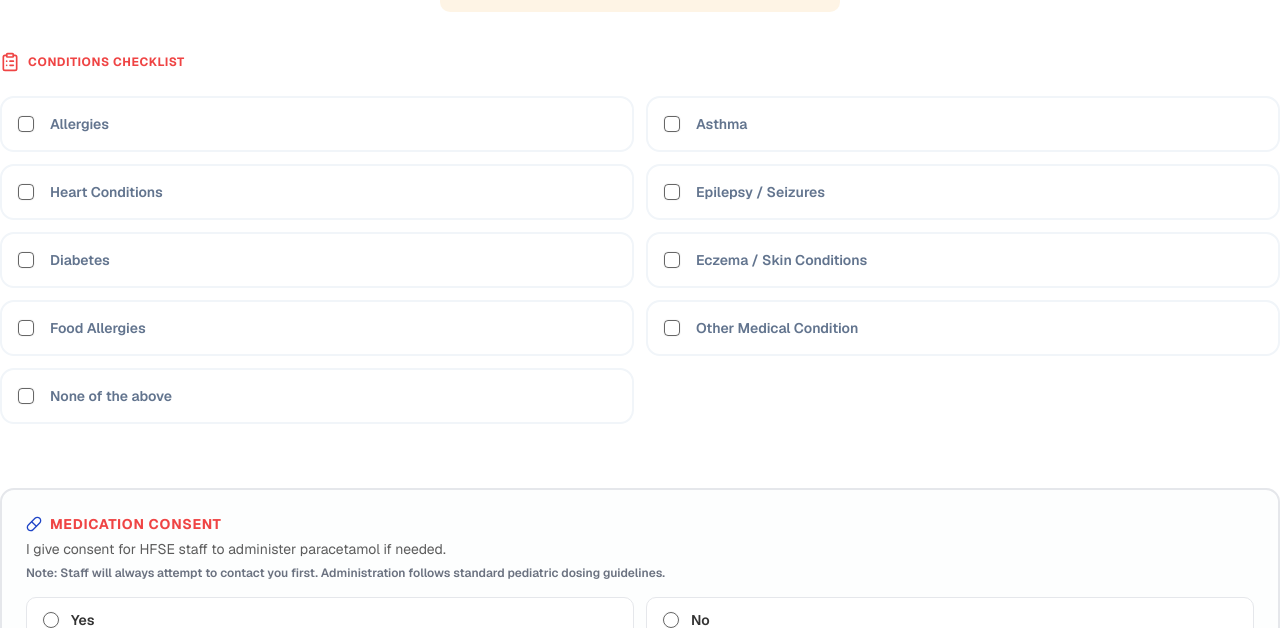
medical-information.tsx › requires detail text when 'Other Medical Condition' is checked
Step 1. Click the checkbox named "other medical condition" next to "Other Medical Condition" → (672, 328), box [664, 320, 680, 336]
(page scrolled)
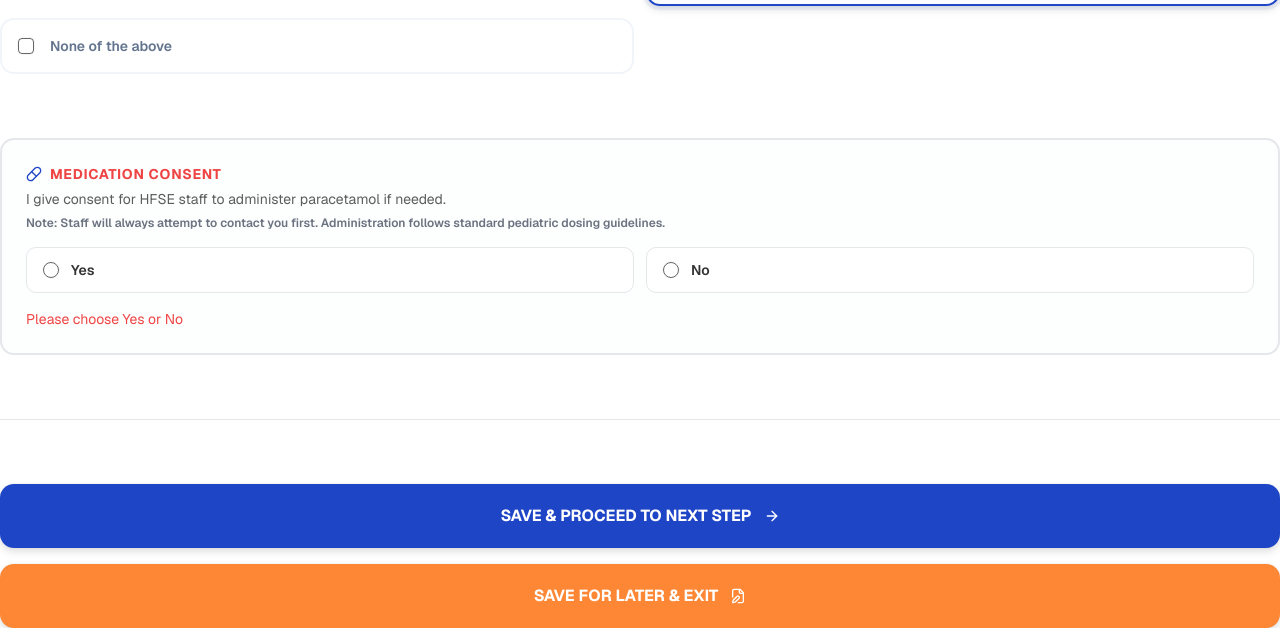
Step 2. Click the radio button named "yes" → (51, 270), box [43, 262, 59, 278]
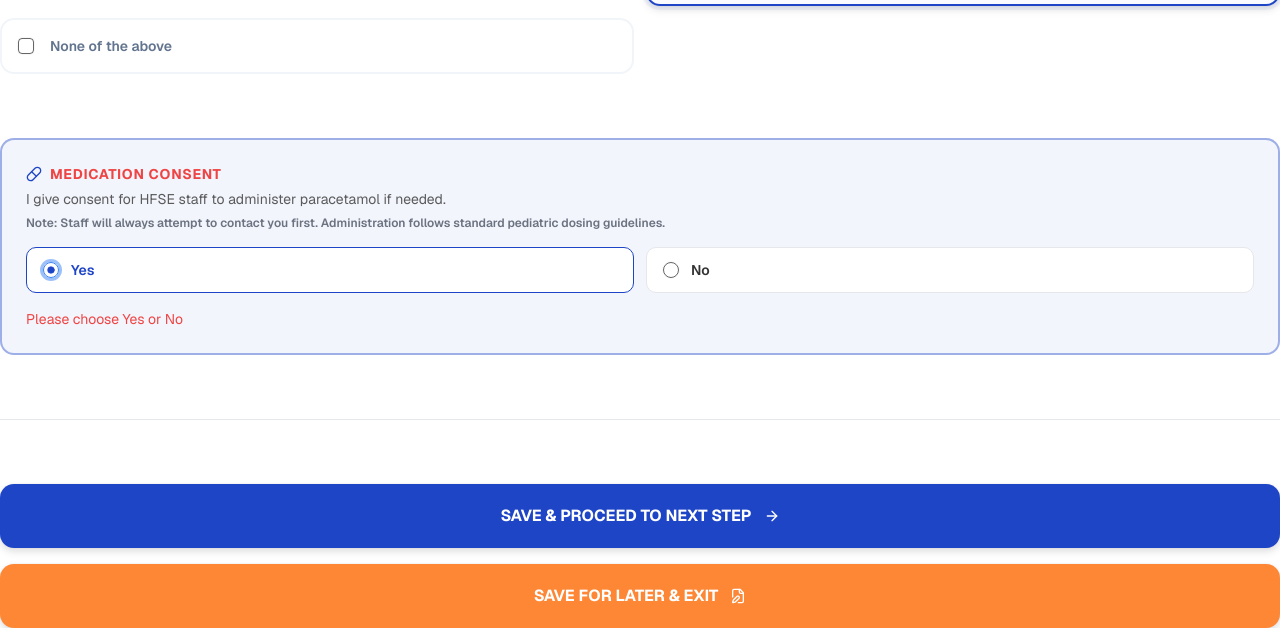
Step 3. Click the button "Save & proceed to next step" → (640, 516), box [0, 484, 1279, 548]
(page scrolled)
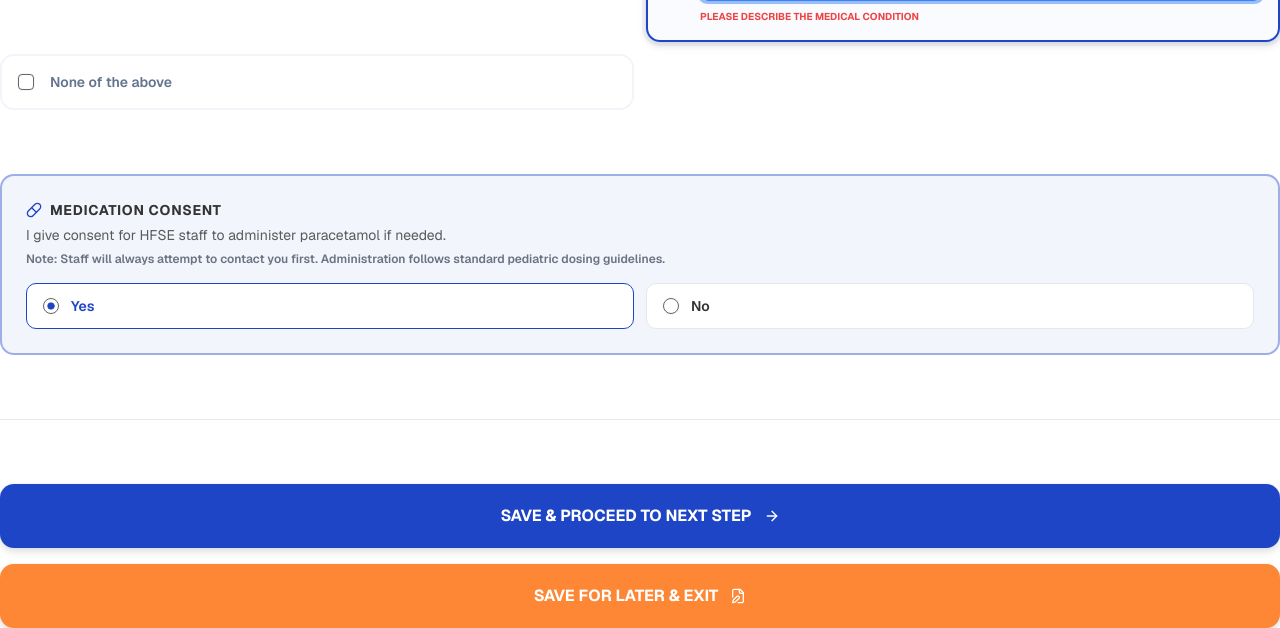
expect the text "Please describe the medical condition" is shown: met, box [700, 10, 919, 23]
